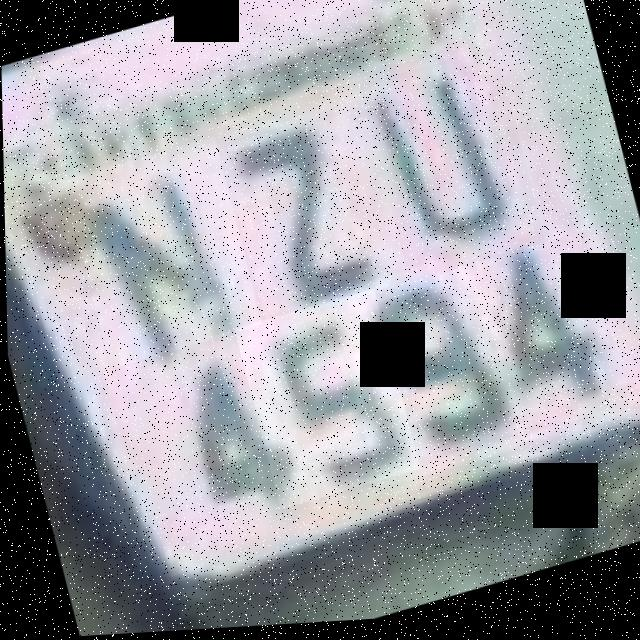4: (443, 224, 631, 467), (122, 319, 302, 548)
5: (232, 290, 419, 514)
9: (327, 253, 525, 495)
N: (61, 137, 261, 372)
U: (358, 50, 544, 289)
Z: (220, 116, 389, 328)
